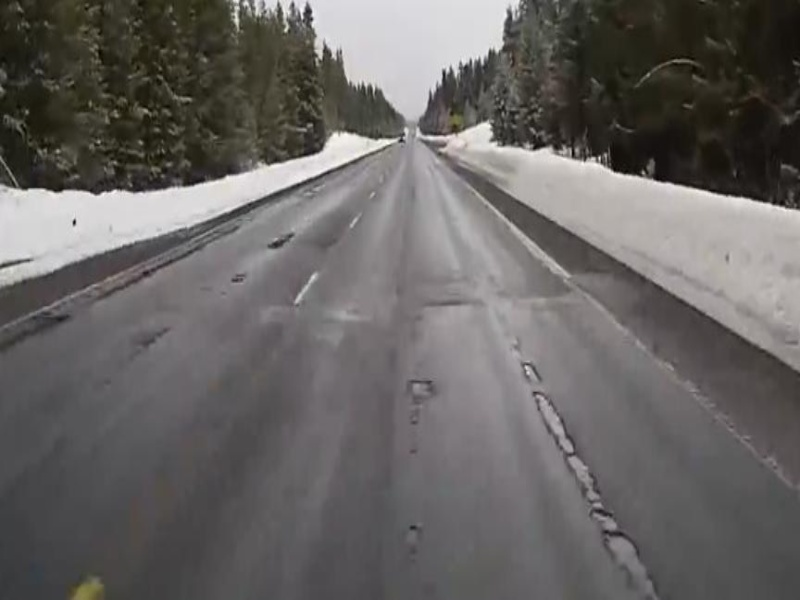pothole: (596, 527, 659, 600), (563, 453, 617, 528), (528, 388, 573, 456), (517, 360, 541, 388)
